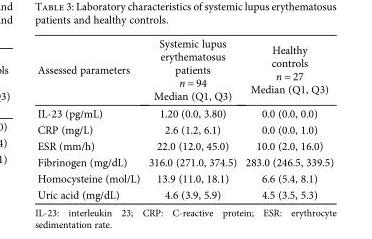table: (36, 36, 333, 200)
table column: (36, 36, 143, 200), (143, 36, 240, 200), (240, 36, 333, 200)
table column header: (36, 36, 333, 104)
table row: (36, 36, 333, 104), (36, 104, 333, 121), (36, 169, 333, 186), (36, 121, 333, 137), (36, 137, 333, 153), (36, 153, 333, 169), (36, 186, 333, 200)
